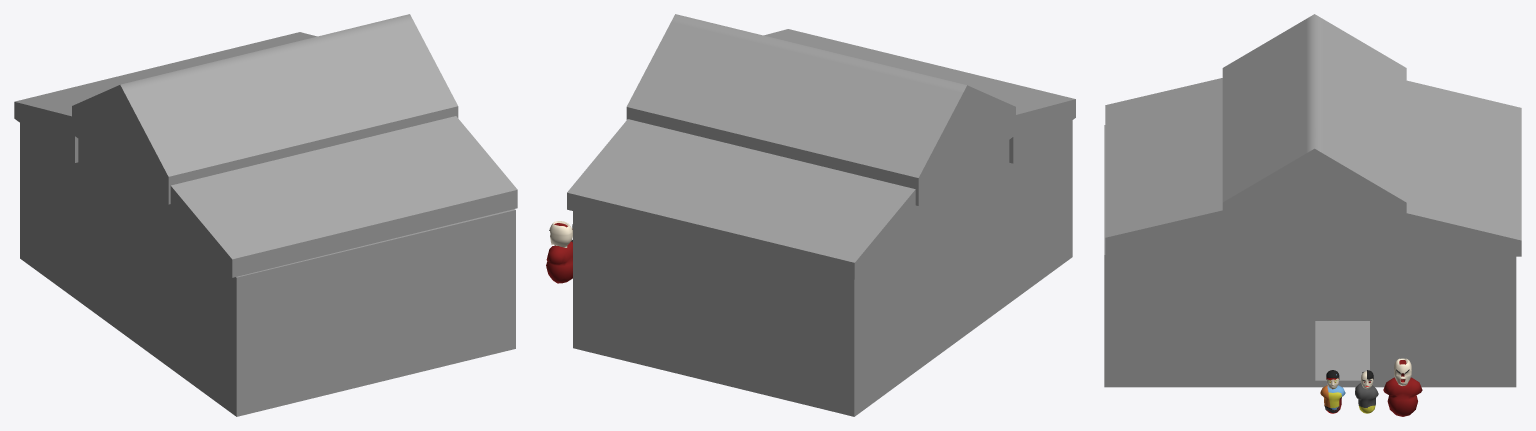
File: assets.fbx
3 renders of one model, left to right at view 1: azimuth 30°, elevation 25°; view 2: azimuth 150°, elevation 25°; view 3: azimuth 270°, elevation 25°, orthographic. The views are drawn at different scales.
Parts seen in each view (by area): view 1: pCube5; view 2: pCube5, polySurface57; view 3: pCube5, polySurface57, polySurface42, polySurface44.
Part boxes in pixels (x1,y1,x2,y2): pCube5: (14, 14, 517, 416); pCube5: (567, 14, 1075, 416); polySurface57: (546, 221, 572, 283); pCube5: (1104, 14, 1521, 387); polySurface57: (1383, 358, 1422, 416); polySurface42: (1320, 370, 1345, 413); polySurface44: (1355, 370, 1378, 413).
Size of the model in its own units: 4653 by 3054 by 4797.
